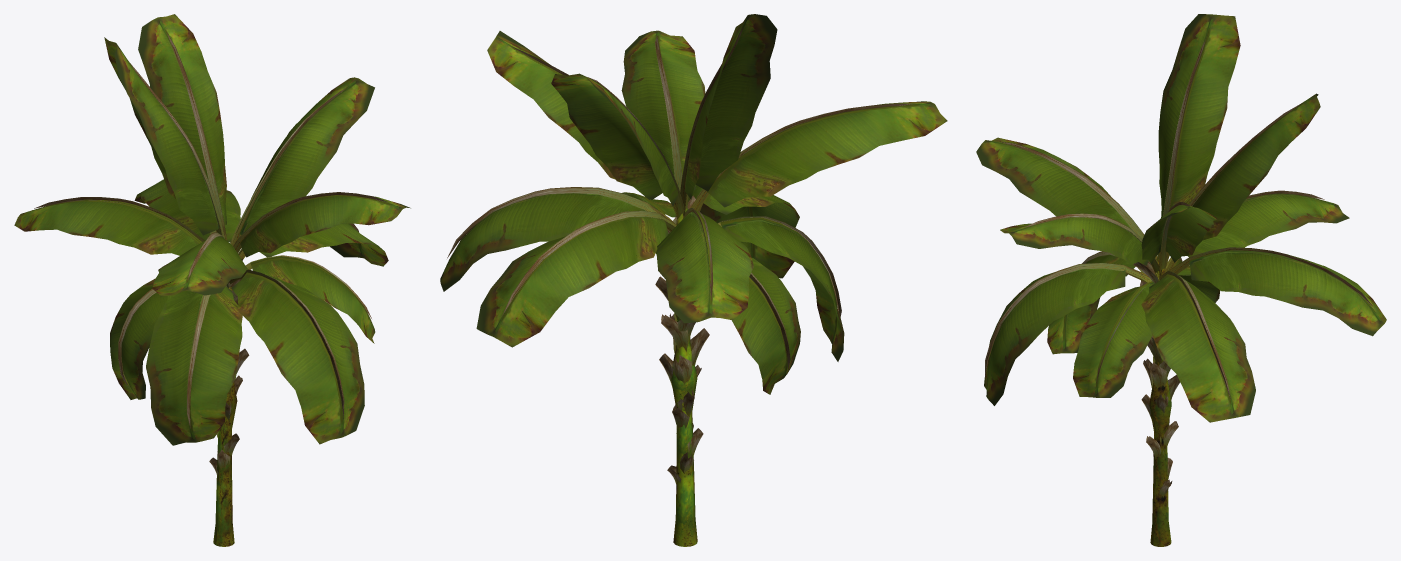
File: banana.gltf
3 views of the same model, side by side, from view 1: azimuth 30°, elevation 25°; view 2: azimuth 150°, elevation 25°; view 3: azimuth 270°, elevation 25° (orthographic). The views are drawn at different scales.
Visible parts, largest first — view 1: banana; view 2: banana; view 3: banana.
Boxes of the visible parts, left/top/right/bottom form: banana: left=14, top=14, right=410, bottom=546; banana: left=440, top=14, right=947, bottom=546; banana: left=976, top=14, right=1386, bottom=546.
Bounding box in the file's own units: 2.29 × 3.32 × 2.52.
3 materials, 3 textured.
